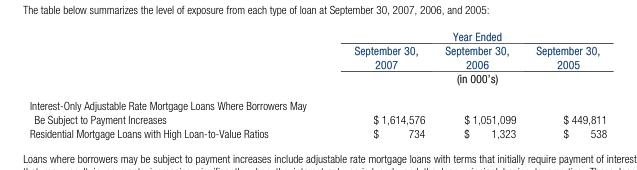table: (29, 29, 606, 138)
table column: (29, 29, 310, 138), (310, 29, 434, 138), (434, 29, 525, 138), (525, 29, 606, 138)
table column header: (29, 29, 606, 91)
table projected row header: (29, 91, 606, 112)
table row: (29, 42, 606, 70), (29, 70, 606, 91), (29, 91, 606, 112), (29, 29, 606, 42), (29, 112, 606, 125), (29, 125, 606, 138)
table spanning cell: (310, 70, 606, 91), (310, 29, 606, 42)
